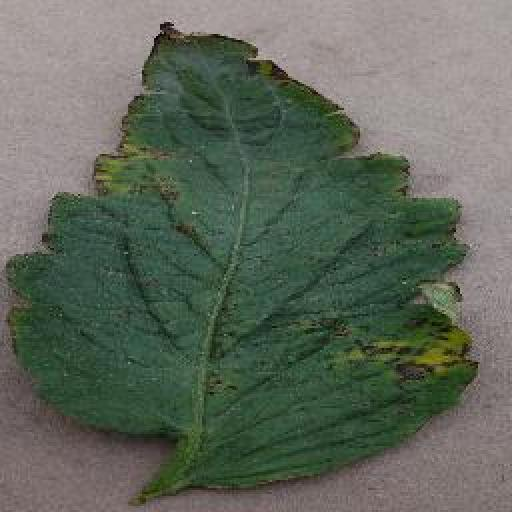Bacterial Spot: (0, 17, 483, 495)
